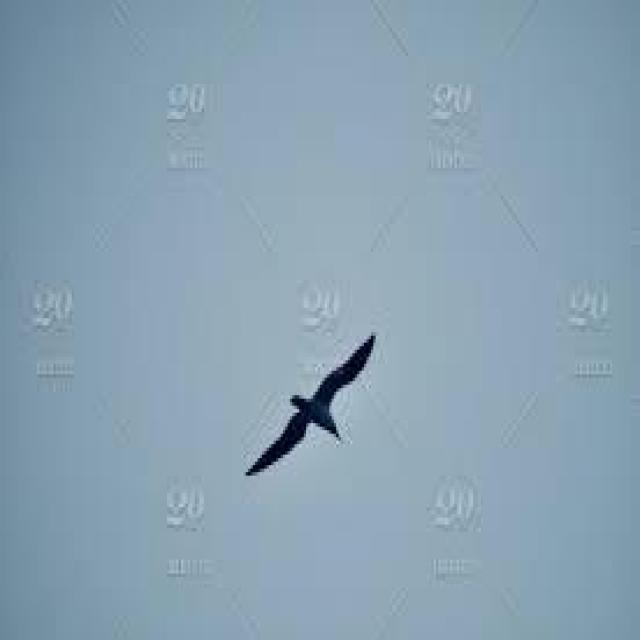bird: (244, 331, 378, 480)
